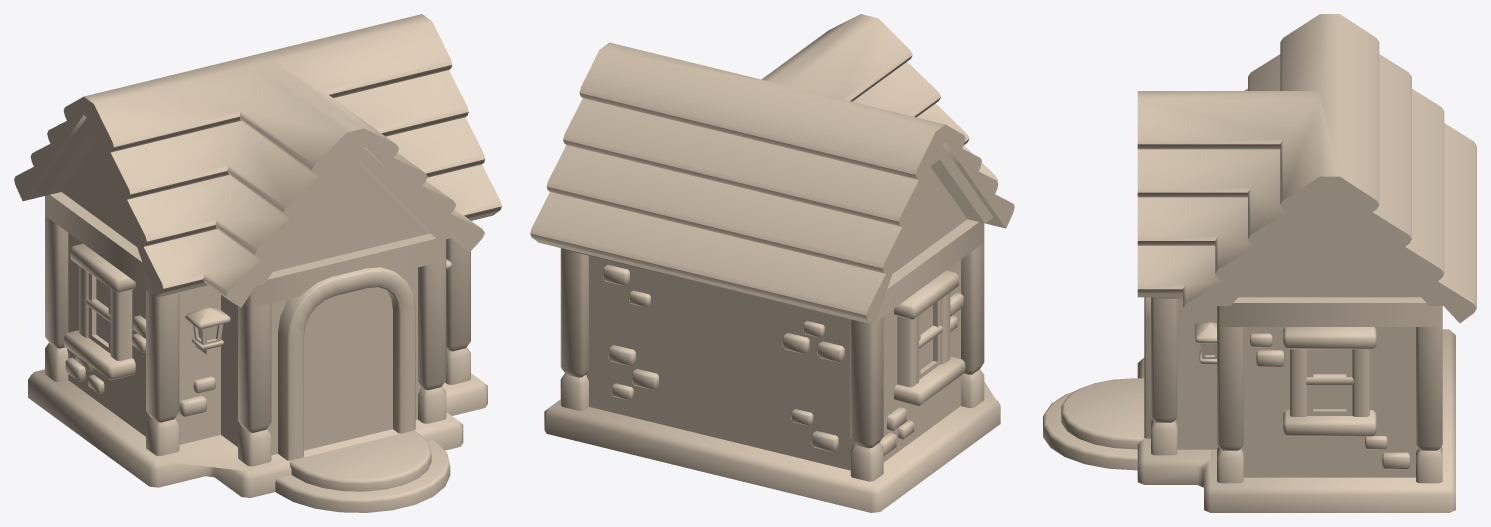
File: house.glb
3 views of the same model, side by side, from view 1: azimuth 30°, elevation 25°; view 2: azimuth 150°, elevation 25°; view 3: azimuth 270°, elevation 25° (orthographic).
Visible parts, largest first — view 1: house; view 2: house; view 3: house.
Part boxes in pixels (x1,y1,x2,y2): house: (14, 14, 501, 512); house: (530, 14, 1014, 512); house: (1043, 14, 1476, 512).
Bounding box in the file's own units: 5.9 × 5.6 × 6.54.
